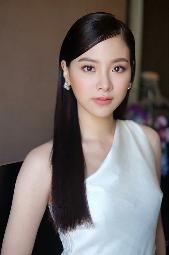face: (72, 40, 130, 117)
